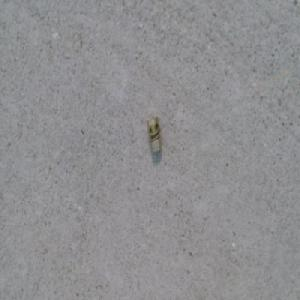BoltNutSet: (145, 114, 163, 158)
